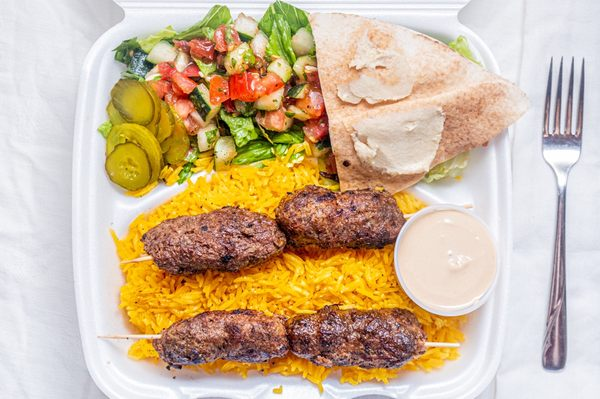burger: (539, 55, 585, 369)
soup: (309, 12, 531, 196)
